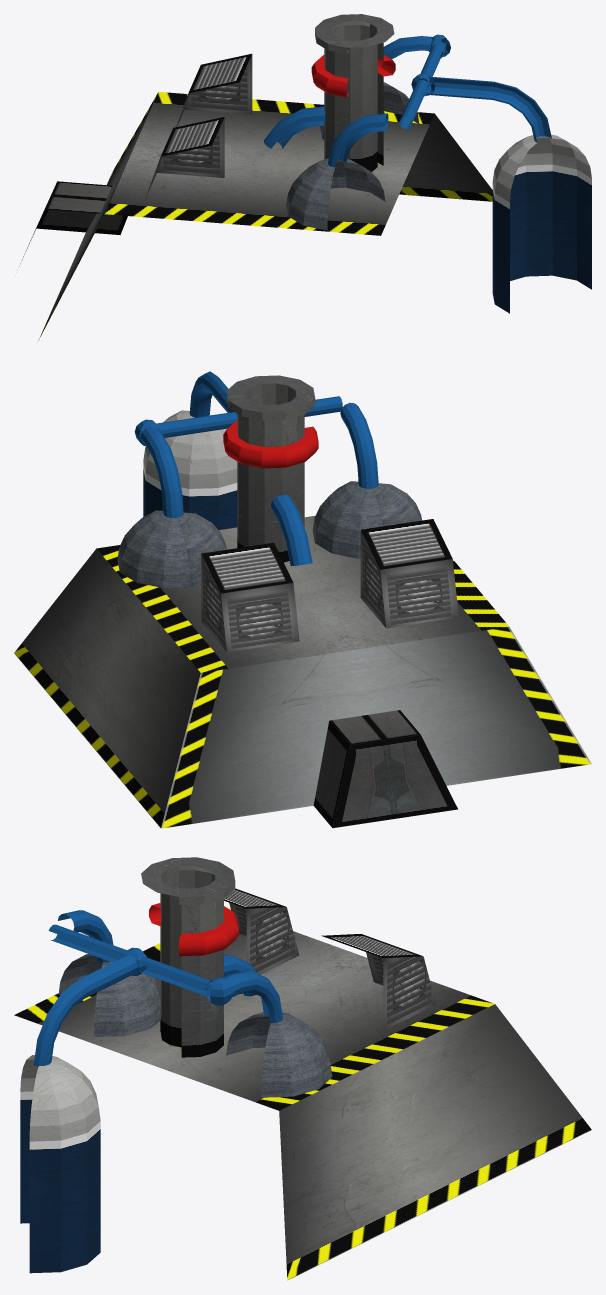
The model's file is PowerPlant.fbx.
3 renders of one model, top to bottom at view 1: azimuth 30°, elevation 25°; view 2: azimuth 150°, elevation 25°; view 3: azimuth 270°, elevation 25°, orthographic. The views are drawn at different scales.
Parts seen in each view (by area): view 1: polySurface98, polySurface103, polySurface101, polySurface112, polySurface107, polySurface113, polySurface99, polySurface105, polySurface102, polySurface110, polySurface108, polySurface104 (+1 smaller); view 2: polySurface98, polySurface99, polySurface101, polySurface113, polySurface107, polySurface103, polySurface108, polySurface112, polySurface110, polySurface105, polySurface102, polySurface109; view 3: polySurface98, polySurface103, polySurface101, polySurface108, polySurface107, polySurface112, polySurface113, polySurface110, polySurface104, polySurface109, polySurface105, polySurface111.
Part boxes in pixels (box(x1,y1,x2,y2)): polySurface98: box(38, 92, 492, 340); polySurface103: box(426, 76, 591, 313); polySurface101: box(311, 14, 395, 171); polySurface112: box(286, 158, 385, 230); polySurface107: box(176, 53, 252, 127); polySurface113: box(145, 117, 224, 198); polySurface99: box(19, 181, 127, 266); polySurface105: box(328, 113, 388, 167); polySurface102: box(264, 106, 324, 148); polySurface110: box(383, 36, 432, 59); polySurface108: box(320, 82, 419, 139); polySurface104: box(399, 80, 428, 129); polySurface98: box(14, 515, 591, 828); polySurface99: box(313, 710, 457, 828); polySurface101: box(223, 375, 318, 562); polySurface113: box(360, 519, 458, 628); polySurface107: box(201, 542, 299, 652); polySurface103: box(143, 371, 237, 529); polySurface108: box(117, 510, 226, 587); polySurface112: box(312, 481, 422, 558); polySurface110: box(141, 427, 183, 517); polySurface105: box(340, 402, 378, 488); polySurface102: box(270, 495, 312, 565); polySurface109: box(156, 412, 237, 437); polySurface98: box(14, 908, 591, 1280); polySurface103: box(20, 955, 137, 1273); polySurface101: box(141, 857, 238, 1057); polySurface108: box(226, 1012, 332, 1097); polySurface107: box(321, 934, 435, 1030); polySurface112: box(58, 954, 160, 1037); polySurface113: box(224, 888, 299, 974); polySurface110: box(223, 970, 283, 1023); polySurface104: box(48, 924, 129, 962); polySurface109: box(139, 957, 214, 997); polySurface105: box(58, 910, 113, 962); polySurface111: box(205, 977, 233, 1005).
Bounding box in the file's own units: 74.85 × 36.54 × 64.3.
